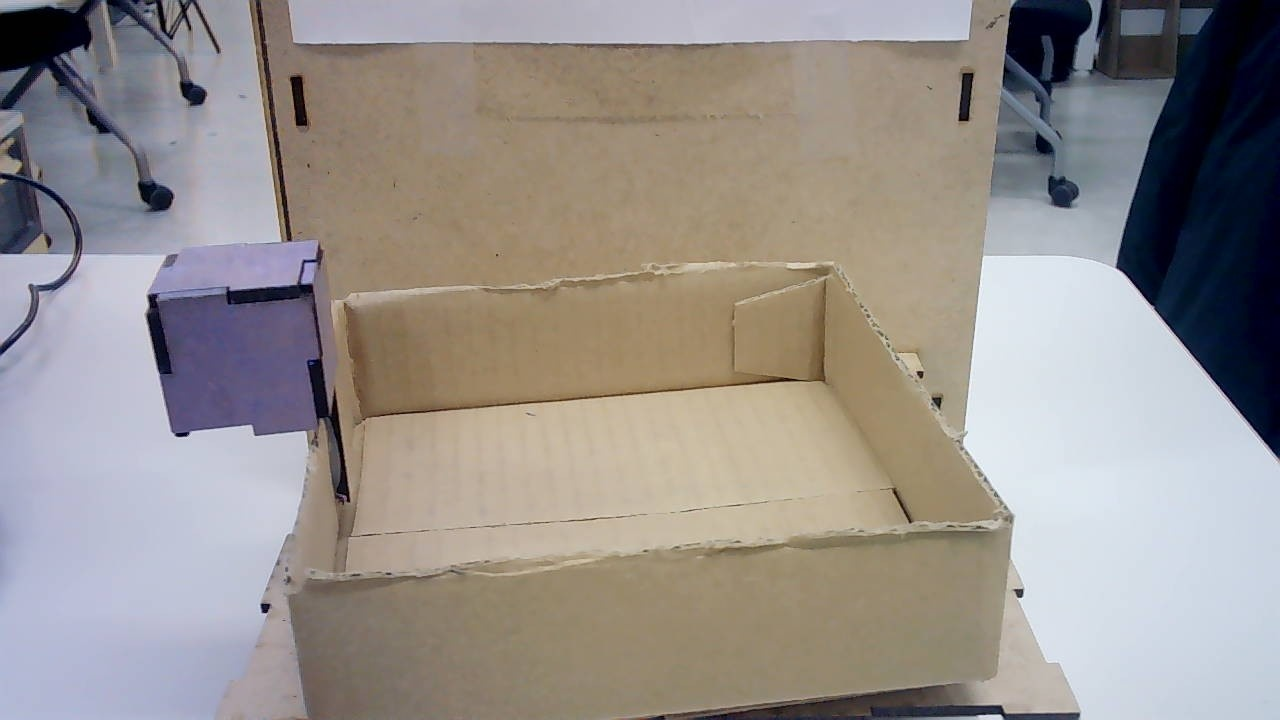pulple box: (144, 239, 344, 435)
